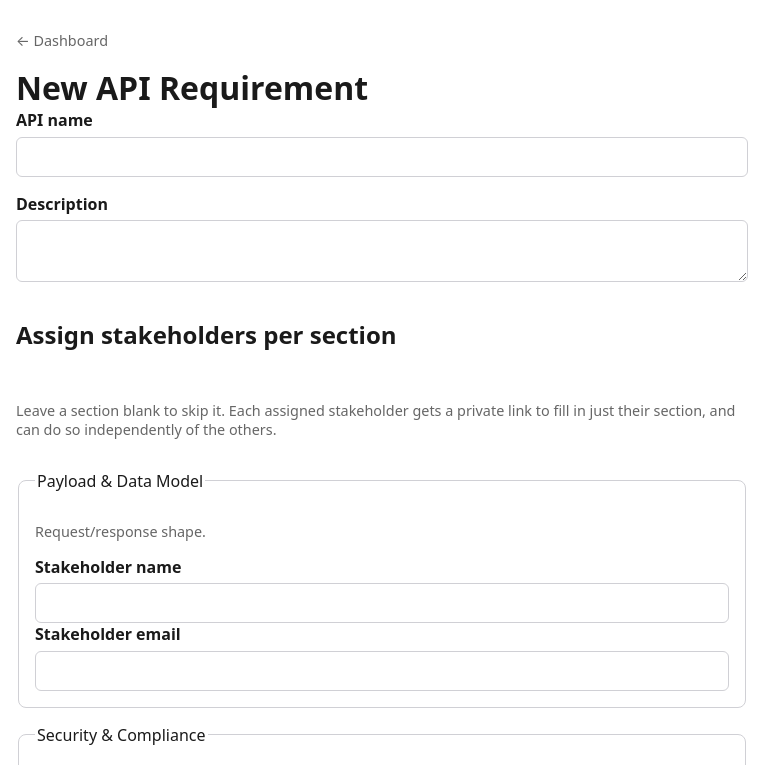
Scenario: a fully-filled section is submitted, and a rejected request shows the error and re-enables the button
Expected: the text "Payload & Data Model" is shown, x1=35 y1=470 x2=205 y2=492
In the field labelled "API name": (382, 157) x1=16 y1=137 x2=748 y2=177, type "Orders API"
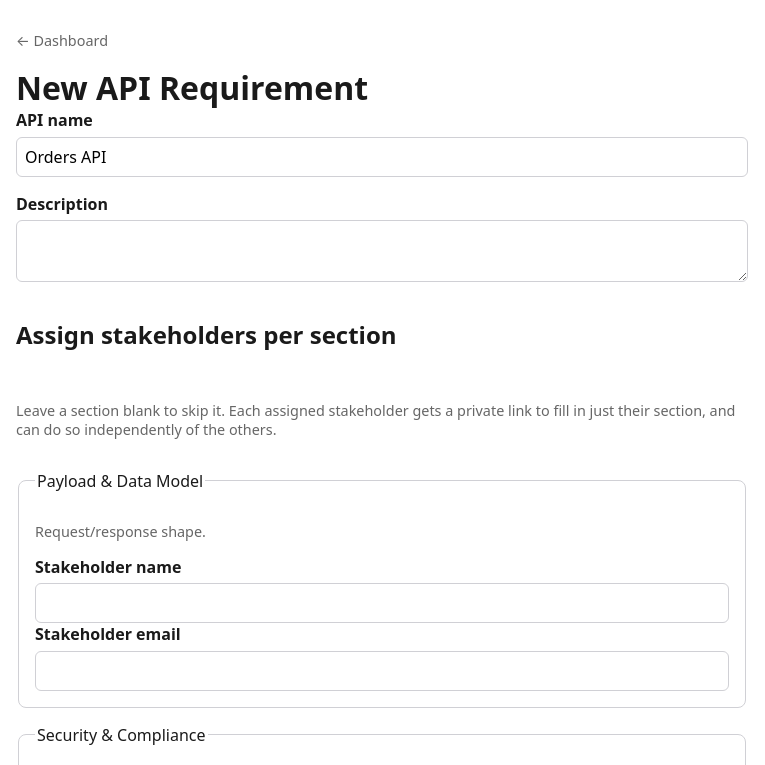
In the field labelled "Stakeholder name": (382, 603) x1=35 y1=583 x2=729 y2=623, type "Alice"
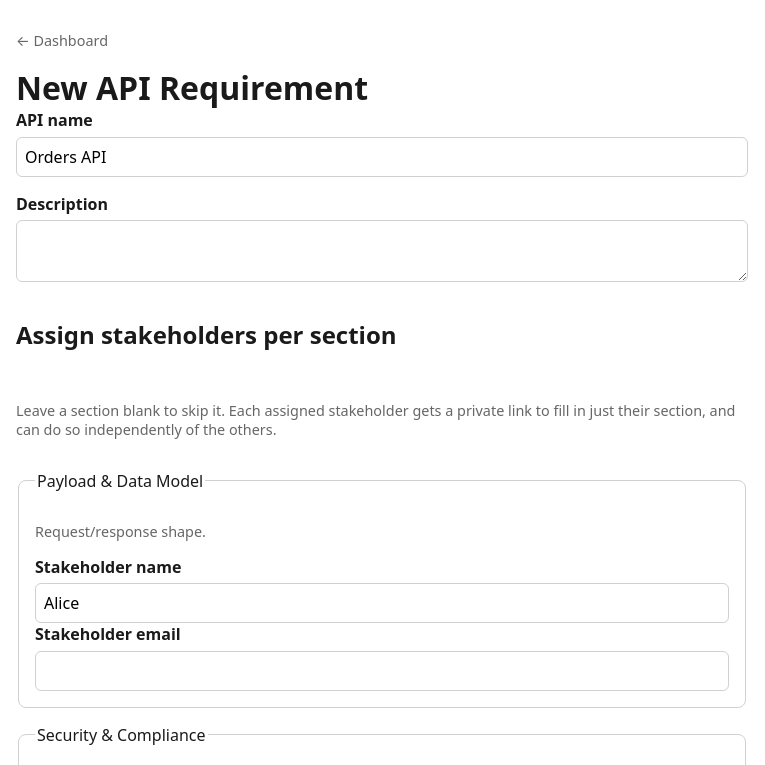
In the field labelled "Stakeholder email": (382, 671) x1=35 y1=651 x2=729 y2=691, type "alice@example.com"
(page scrolled)
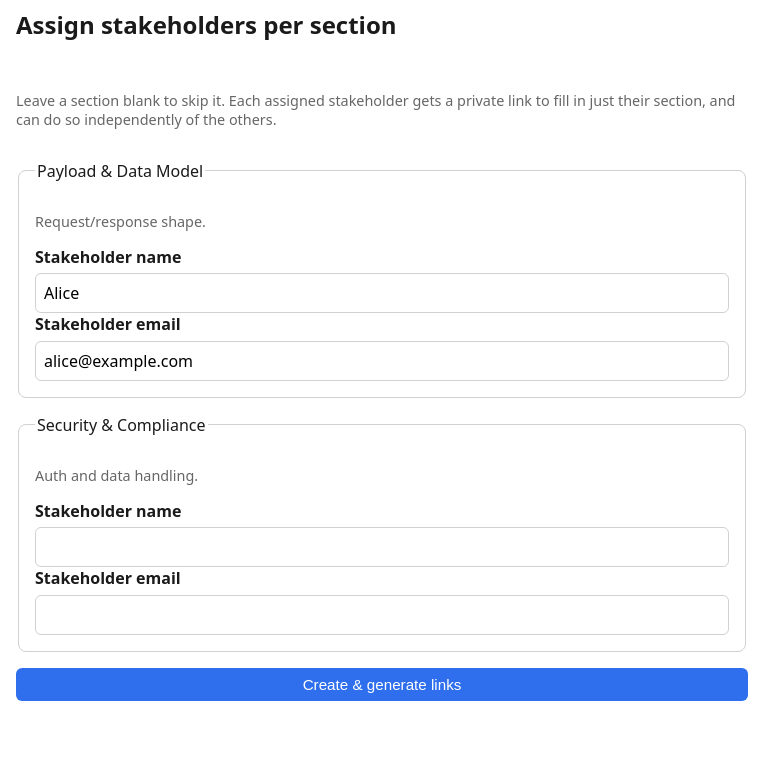
Click the button "Create & generate links": click(382, 684) x1=16 y1=668 x2=748 y2=701
(page scrolled)
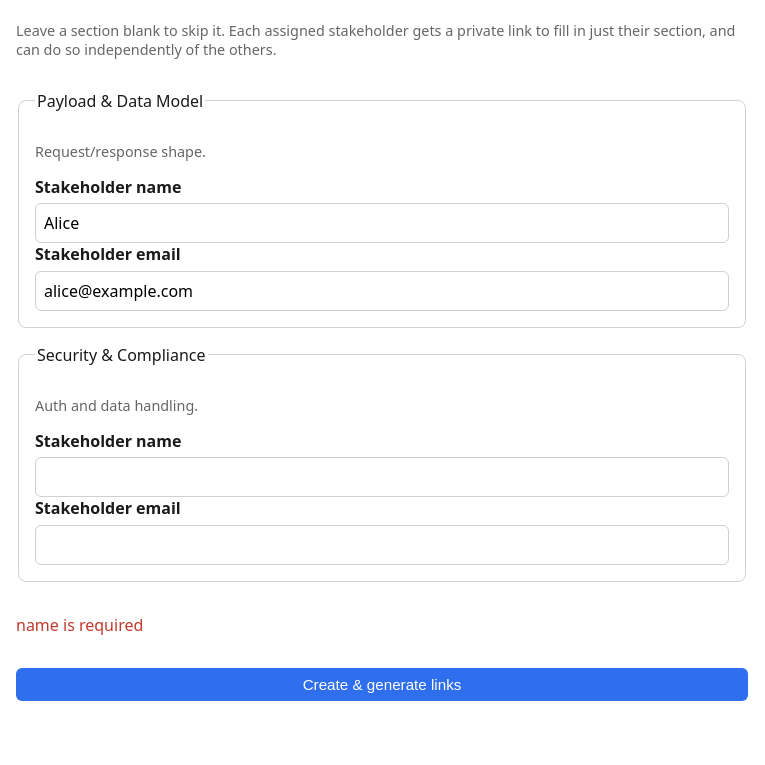
Expected: the text "name is required" is shown, x1=16 y1=614 x2=143 y2=636
